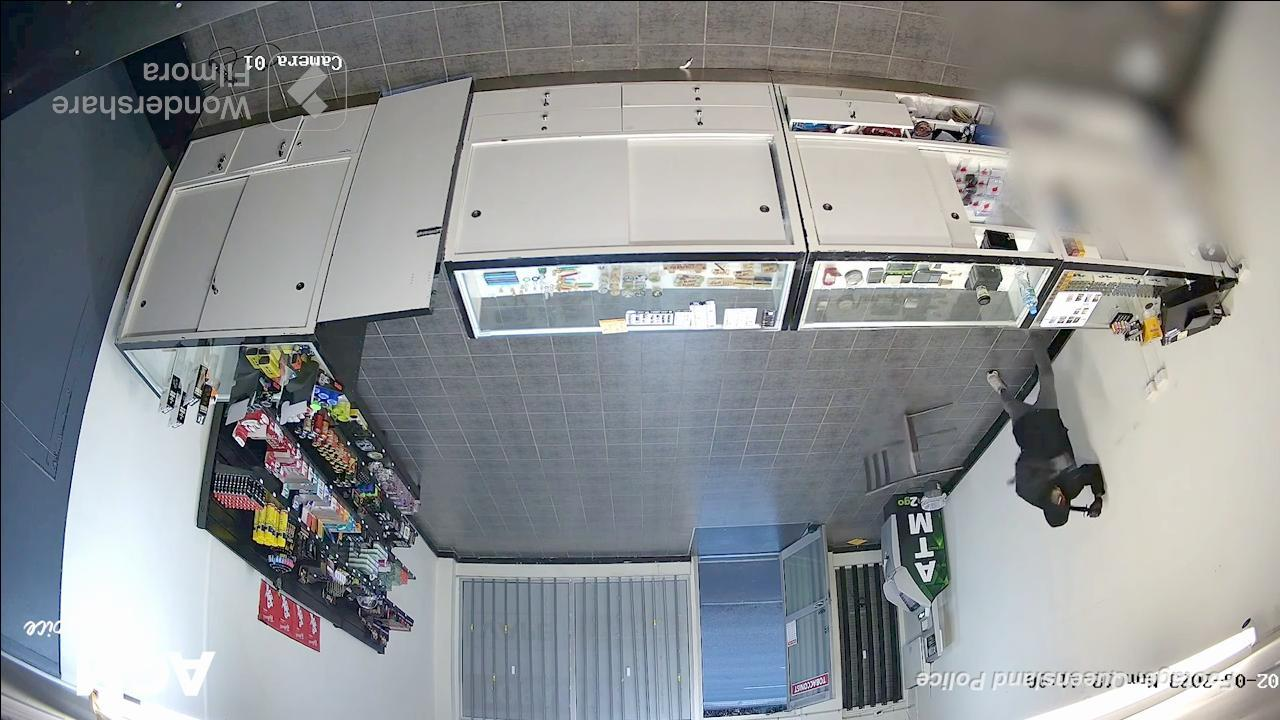melee: (1056, 495, 1100, 523)
